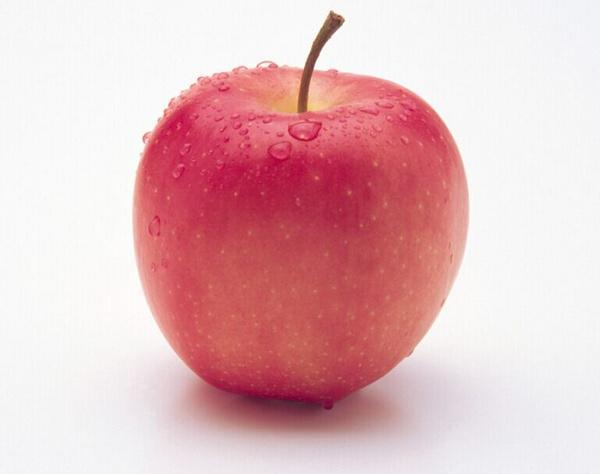apple: (128, 12, 470, 401)
